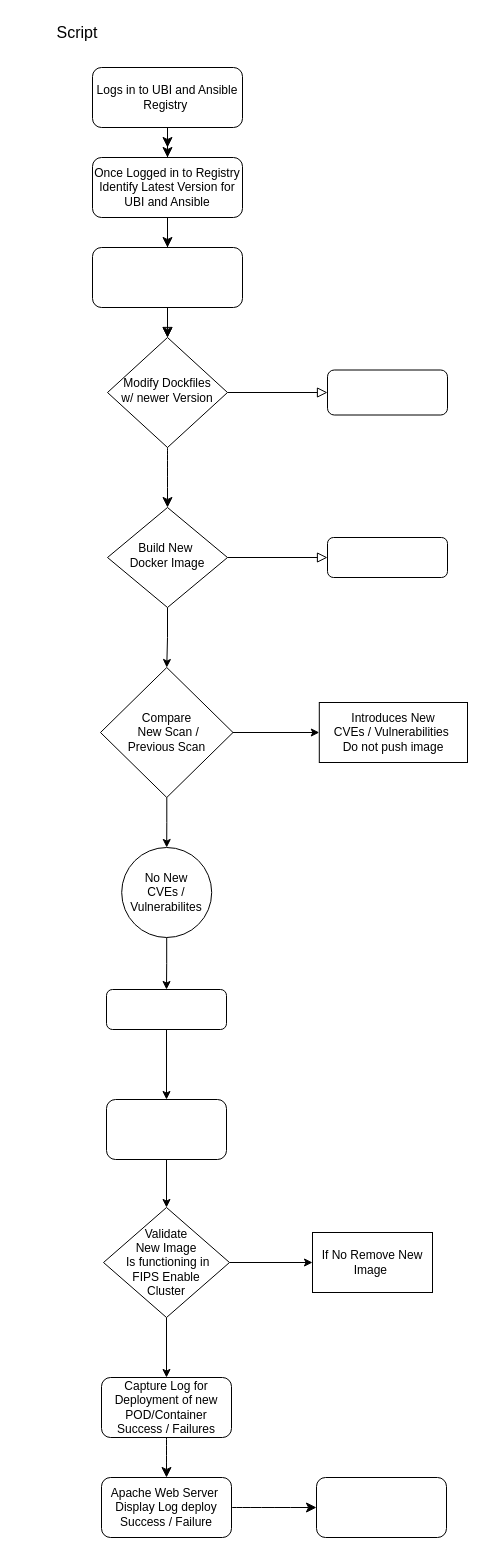
Some shapes in this 485 by 1555 pixel diagram are drawn without their labels. The centre of each missing label's shape, as x and y in pixels:
"Deploy New Image to FIPS Enable OpenShift Cluster" goes at (x=166, y=1129).
"Email the Repot" goes at (x=381, y=1507).
"Push Docker Image to Registry" goes at (x=166, y=1009).
"Scan Code in DockerFile" goes at (x=387, y=392).
"Scan Docker Image" goes at (x=387, y=557).
"Validate the Versions against the DockerFile" goes at (x=167, y=277).
